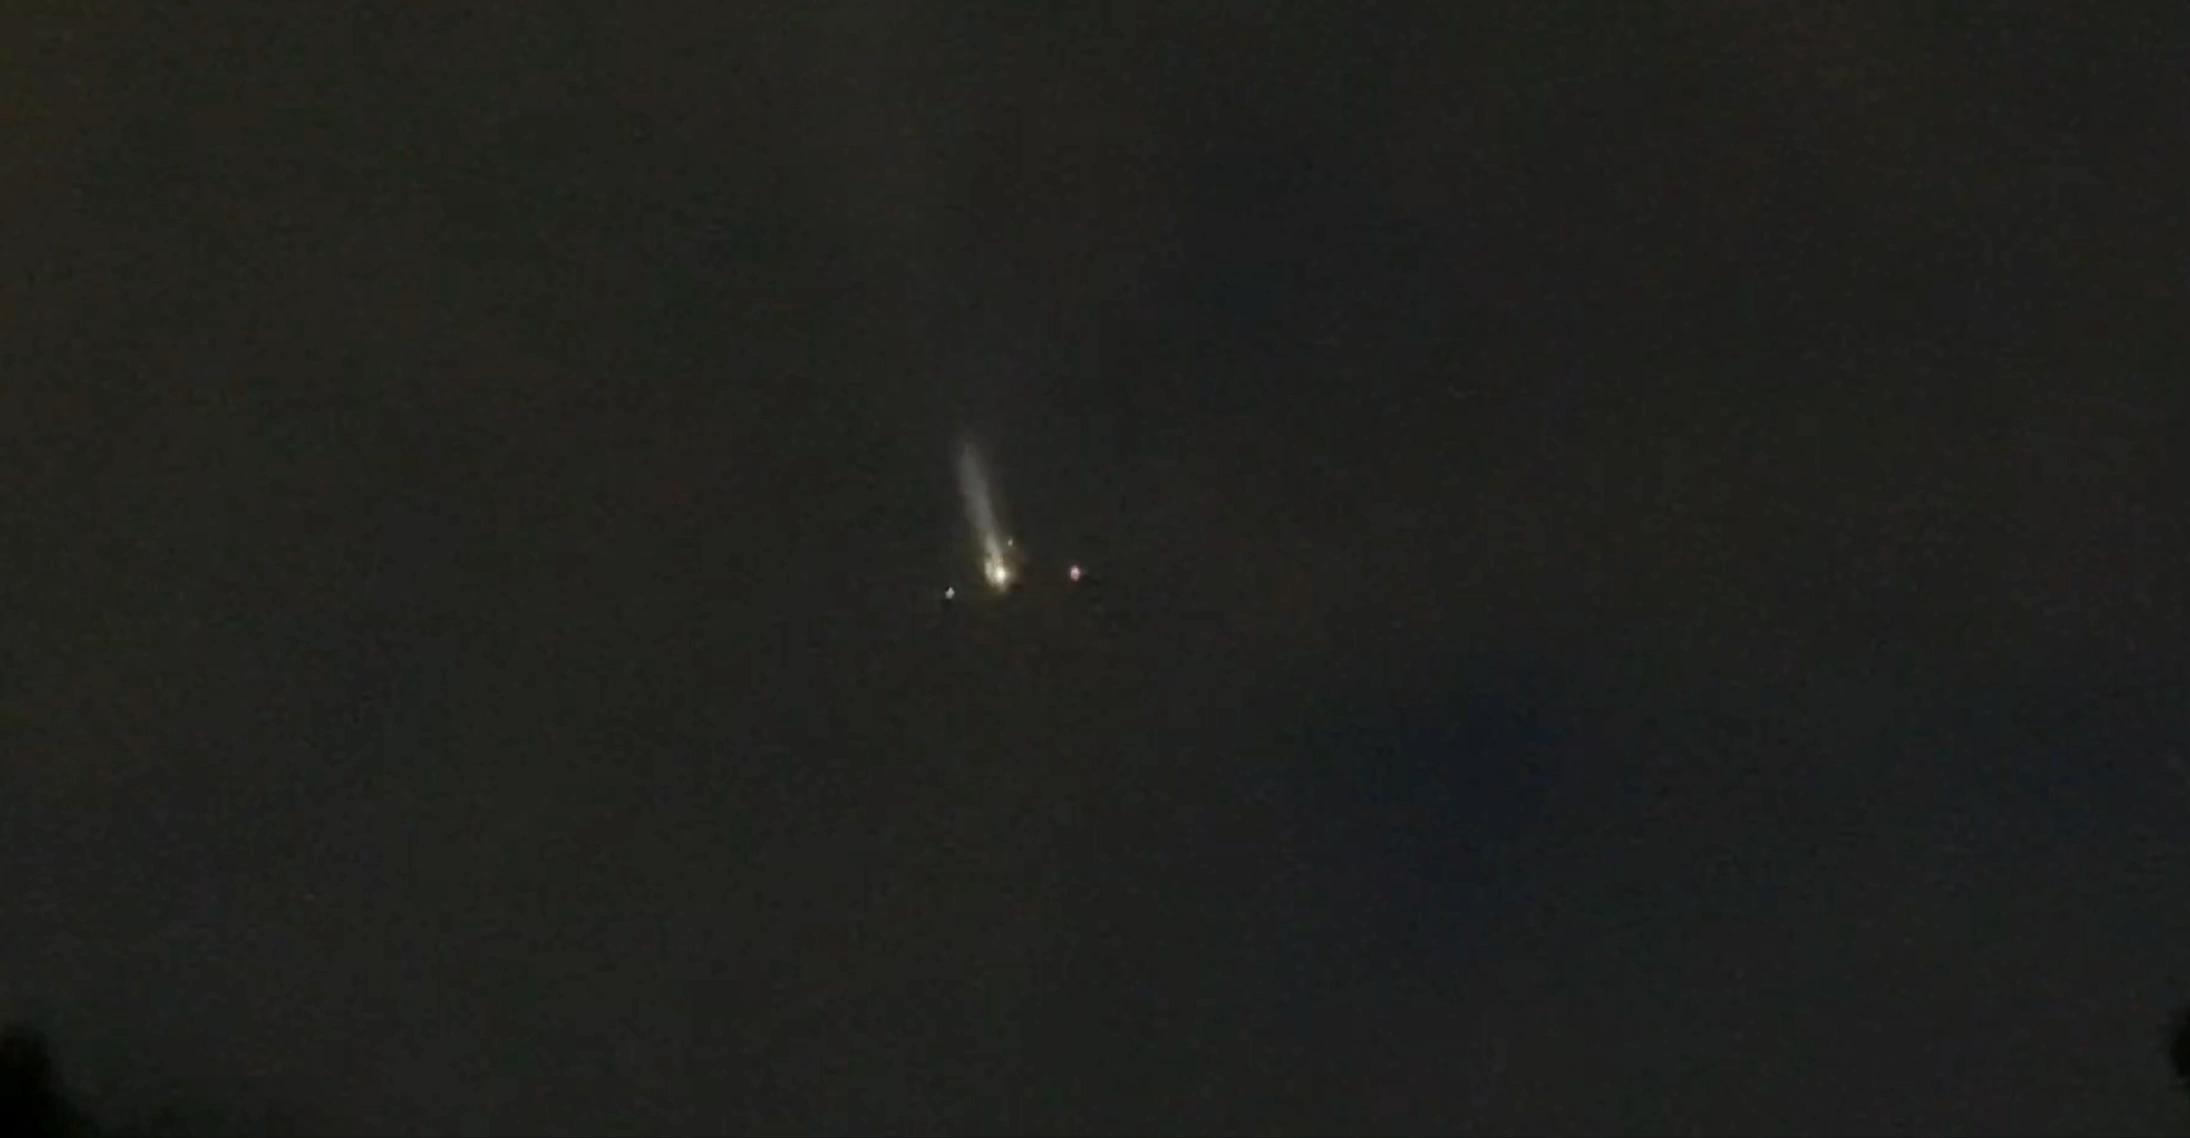Plane: (885, 405, 1123, 625)
